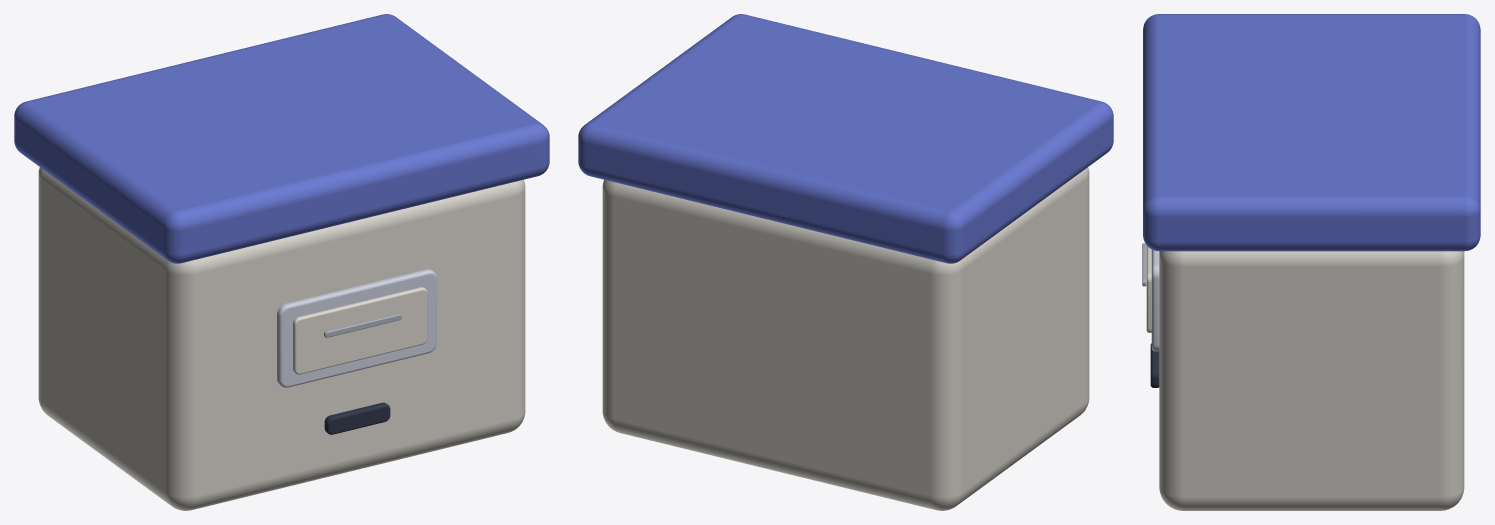
The model's file is archive-box.glb.
The picture shows the model from 3 angles, left to right: view 1: azimuth 30°, elevation 25°; view 2: azimuth 150°, elevation 25°; view 3: azimuth 270°, elevation 25°; orthographic projection. The views are drawn at different scales.
Visible parts, largest first — view 1: archive-box; view 2: archive-box; view 3: archive-box.
Boxes of the visible parts, x1,y1,x2,y2 form: archive-box: (14, 14, 549, 510); archive-box: (578, 14, 1113, 510); archive-box: (1142, 14, 1480, 510).
Bounding box in the file's own units: 1.7 × 1.32 × 1.25.
